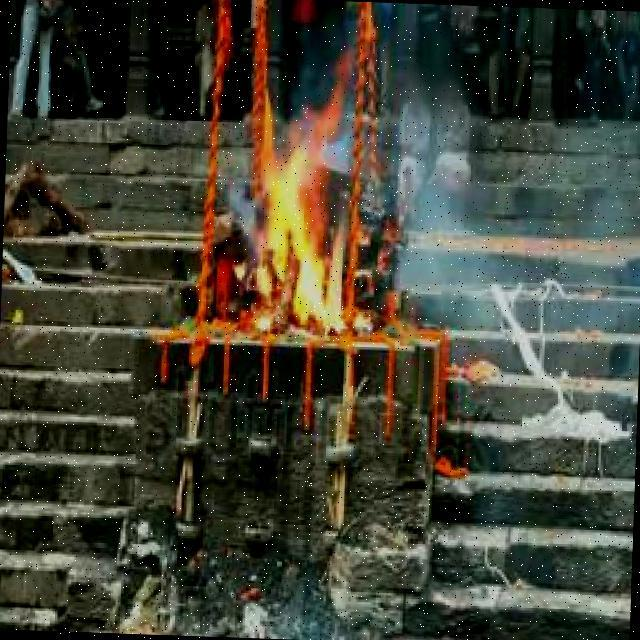Fire: (252, 137, 351, 337)
